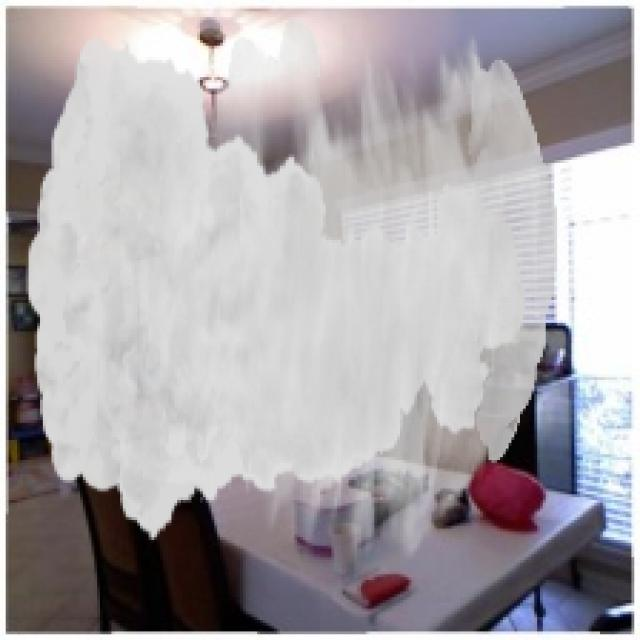smoke: (26, 17, 557, 563)
